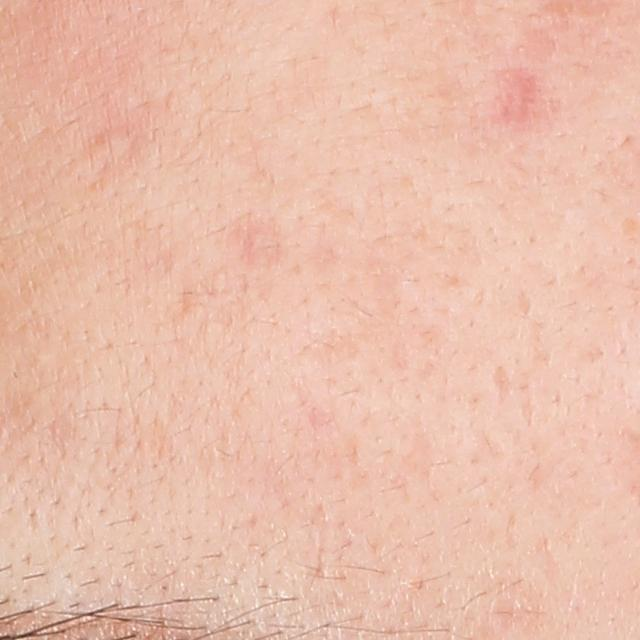atrophic_scar: (489, 359, 517, 408)
